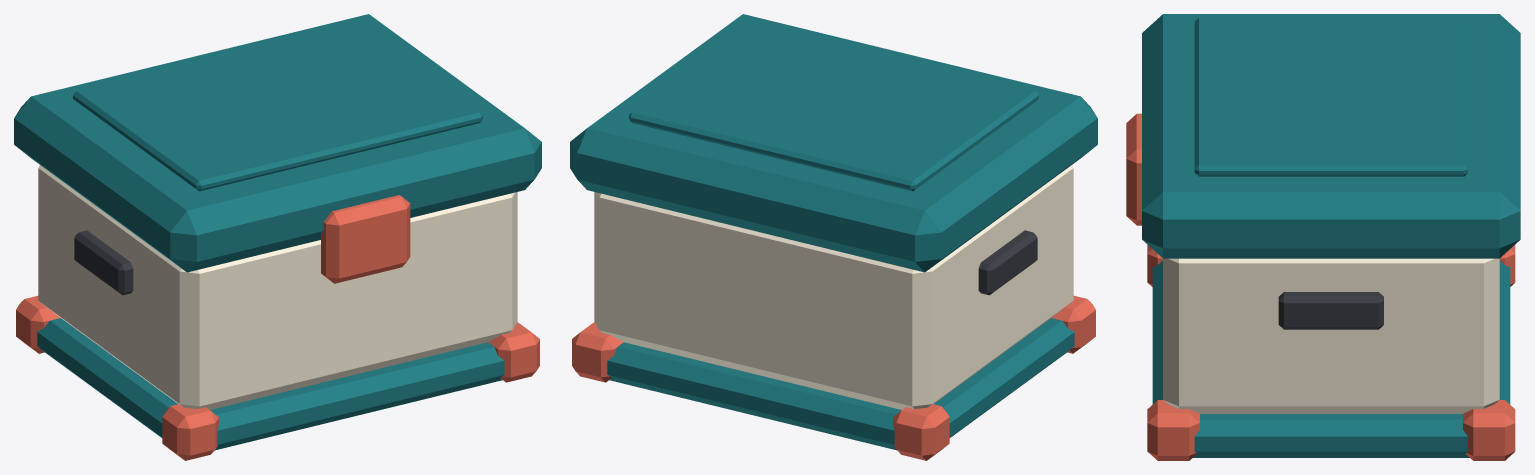
Rendered from storage_box.glb.
The picture shows the model from 3 angles, left to right: view 1: azimuth 30°, elevation 25°; view 2: azimuth 150°, elevation 25°; view 3: azimuth 270°, elevation 25°; orthographic projection. The views are drawn at different scales.
Visible parts, largest first — view 1: storage_box; view 2: storage_box; view 3: storage_box.
Boxes of the visible parts, x1,y1,x2,y2 form: storage_box: [14, 14, 541, 460]; storage_box: [570, 14, 1097, 460]; storage_box: [1126, 14, 1520, 460].
Bounding box in the file's own units: 0.44 × 0.292 × 0.375.
